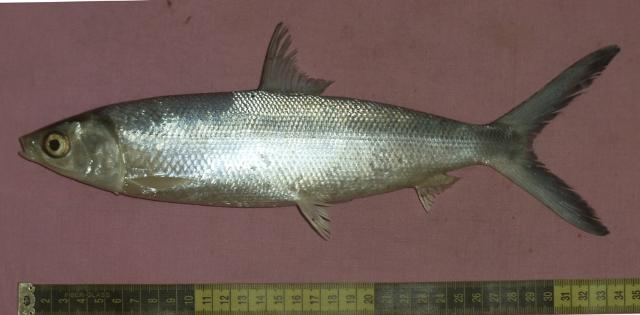Mulut: (3, 118, 53, 181)
Sirip Anal: (404, 162, 474, 218)
Sirip Dada: (111, 165, 211, 207)
Sirip Ekor: (481, 31, 631, 251)
Sirip Perut: (282, 183, 350, 245)
Sirip Punggung: (245, 10, 343, 114)
